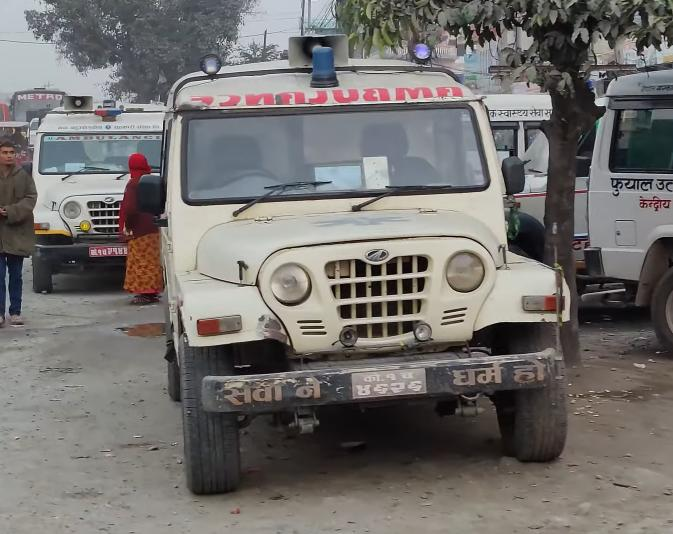ambulance: (144, 25, 585, 495), (15, 85, 191, 298)
